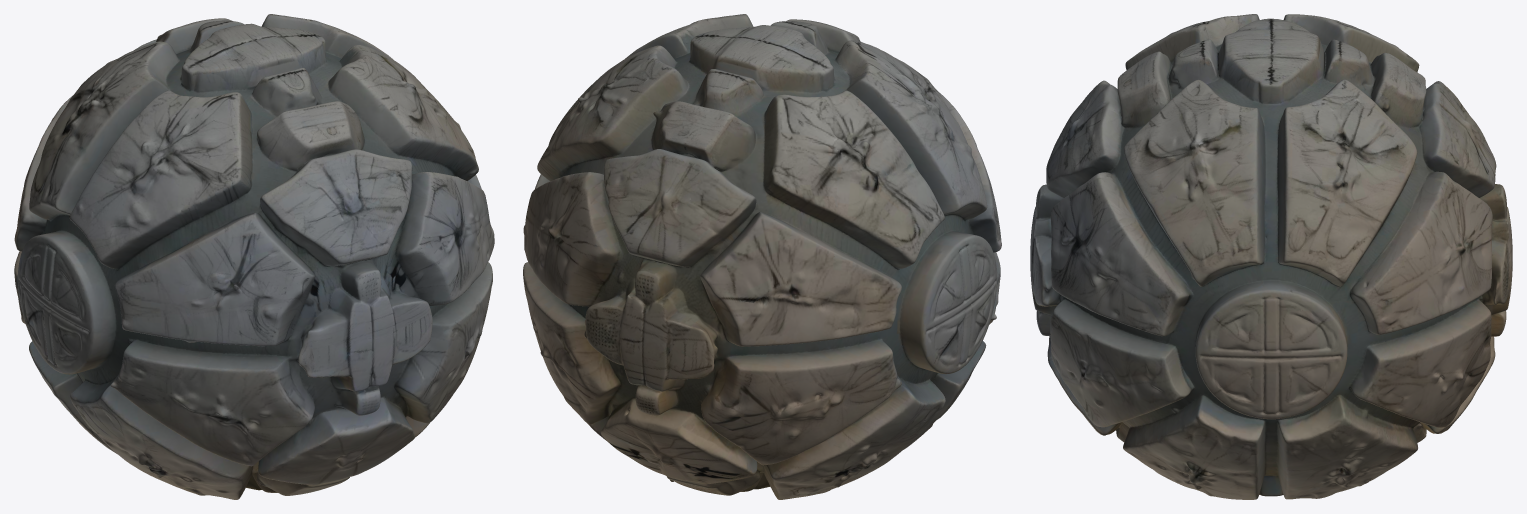
Rendered from detailed_realistic_model_default_04.glb.
The picture shows the model from 3 angles, left to right: view 1: azimuth 30°, elevation 25°; view 2: azimuth 150°, elevation 25°; view 3: azimuth 270°, elevation 25°; orthographic projection.
Parts seen in each view (by area): view 1: tripo_node_144451a5-d783-4e04-875f-d16c389d8eb5; view 2: tripo_node_144451a5-d783-4e04-875f-d16c389d8eb5; view 3: tripo_node_144451a5-d783-4e04-875f-d16c389d8eb5.
Boxes of the visible parts, x1=… form: tripo_node_144451a5-d783-4e04-875f-d16c389d8eb5: x1=14, y1=14, x2=494, y2=499; tripo_node_144451a5-d783-4e04-875f-d16c389d8eb5: x1=523, y1=14, x2=1001, y2=499; tripo_node_144451a5-d783-4e04-875f-d16c389d8eb5: x1=1030, y1=14, x2=1512, y2=499.
Bounding box in the file's own units: 1 × 0.9991 × 0.9997.
Materials: 1 (1 with a texture image).
